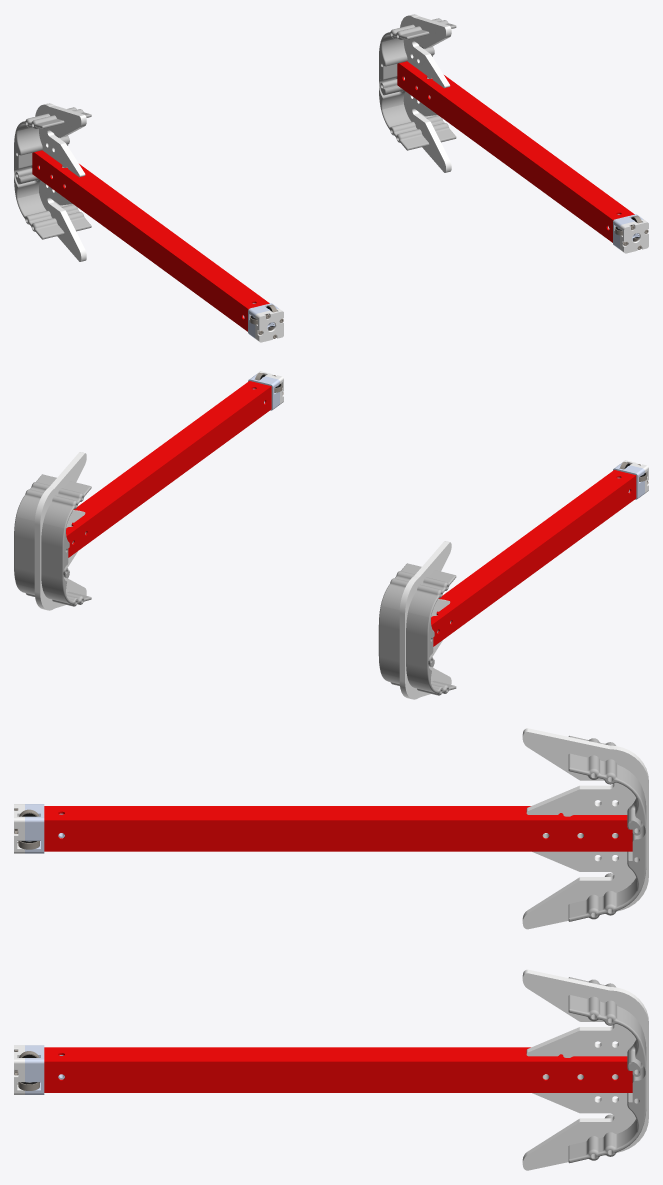
Rendered from Snapback_Climber_Top_Stage.glb.
The picture shows the model from 3 angles, top to bottom: view 1: azimuth 30°, elevation 25°; view 2: azimuth 150°, elevation 25°; view 3: azimuth 270°, elevation 25°; orthographic projection. The views are drawn at different scales.
Visible parts, largest first — view 1: NAUO84, NAUO100, NAUO89, NAUO105, NAUO96, NAUO113, NAUO85, NAUO101, NAUO112, NAUO97; view 2: NAUO100, NAUO84, NAUO96, NAUO113, NAUO105, NAUO97, NAUO112, NAUO89, NAUO85, NAUO101; view 3: NAUO84, NAUO100, NAUO89, NAUO105, NAUO97, NAUO112, NAUO85, NAUO101.
Boxes of the visible parts, x1,y1,x2,y2 form: NAUO84: [32, 150, 269, 331]; NAUO100: [397, 61, 634, 242]; NAUO89: [35, 103, 86, 261]; NAUO105: [400, 14, 451, 172]; NAUO96: [14, 113, 65, 239]; NAUO113: [379, 24, 430, 150]; NAUO85: [243, 303, 283, 342]; NAUO101: [608, 214, 648, 253]; NAUO112: [418, 18, 456, 142]; NAUO97: [54, 107, 91, 231]; NAUO100: [66, 381, 271, 557]; NAUO84: [431, 470, 636, 646]; NAUO96: [406, 570, 456, 695]; NAUO113: [41, 481, 91, 606]; NAUO105: [34, 452, 86, 610]; NAUO97: [378, 563, 421, 685]; NAUO112: [14, 474, 56, 596]; NAUO89: [399, 541, 451, 699]; NAUO85: [613, 460, 648, 499]; NAUO101: [248, 371, 283, 410]; NAUO84: [44, 806, 632, 851]; NAUO100: [44, 1047, 632, 1092]; NAUO89: [522, 728, 648, 929]; NAUO105: [522, 969, 648, 1170]; NAUO97: [542, 753, 646, 921]; NAUO112: [542, 995, 646, 1163]; NAUO85: [14, 804, 64, 853]; NAUO101: [14, 1045, 64, 1094].
Size of the model in its own units: 0.4763 by 0.16 by 0.4661.
